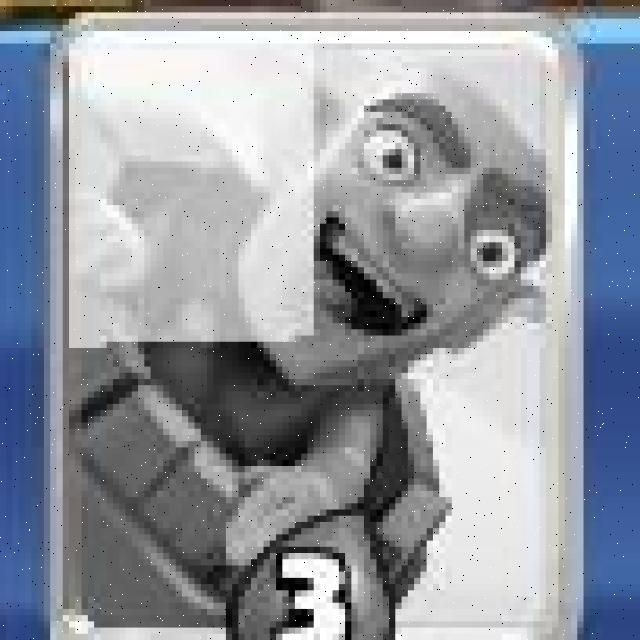Goblin_Barrel: (44, 15, 586, 640)
